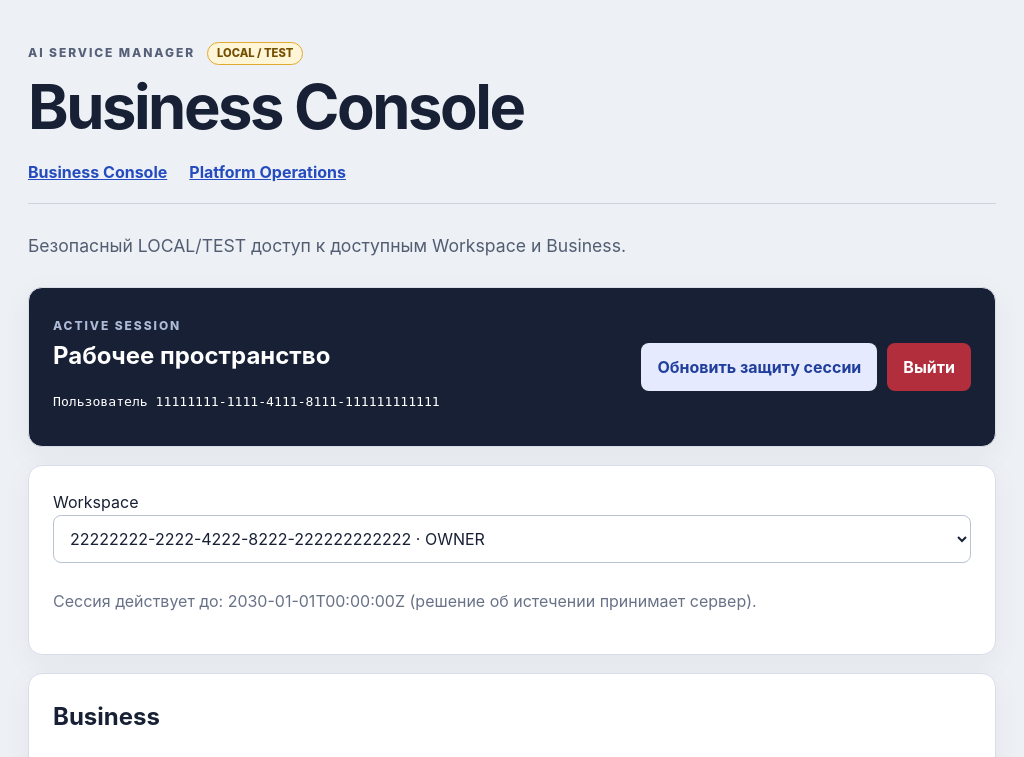
Test case: Business Console auth › keeps pending logout uncertain when recovery is offline
Check: the text "Пользователь 11111111-1111-4111-8111-111111111111" is shown, box [53, 394, 440, 409]
Click the button "Выйти" at (929, 367), box [887, 343, 971, 391]
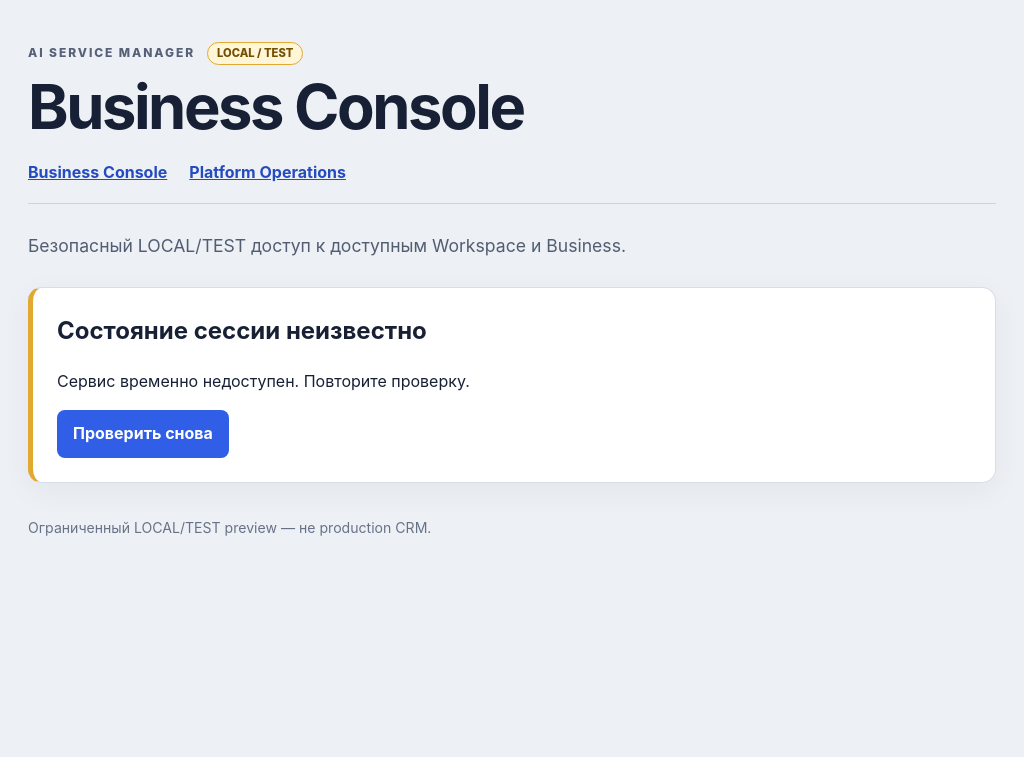
Check: the heading "Состояние сессии неизвестно" is shown, box [57, 316, 427, 345]
